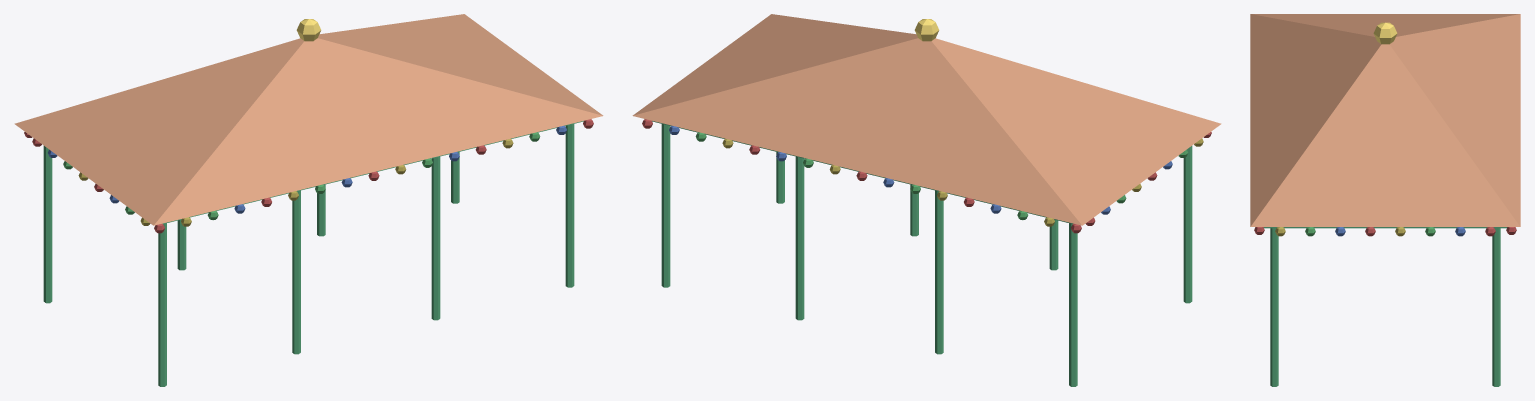
The model's file is VJ_Templete.fbx.
The picture shows the model from 3 angles, left to right: view 1: azimuth 30°, elevation 25°; view 2: azimuth 150°, elevation 25°; view 3: azimuth 270°, elevation 25°; orthographic projection. The views are drawn at different scales.
Parts seen in each view (by area): view 1: VJ_Templete; view 2: VJ_Templete; view 3: VJ_Templete.
Boxes of the visible parts, left/top/right/bottom form: VJ_Templete: left=14, top=14, right=603, bottom=386; VJ_Templete: left=632, top=14, right=1221, bottom=386; VJ_Templete: left=1250, top=14, right=1520, bottom=386.
Size of the model in its own units: 8.4 by 4.9 by 4.5.
